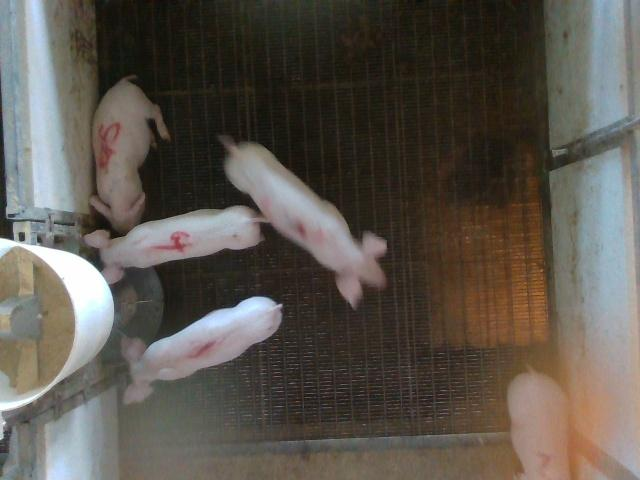pig-1: (121, 298, 282, 403)
pig-3: (219, 136, 388, 308)
pig-4: (85, 206, 264, 282)
pig-5: (90, 75, 170, 234)
